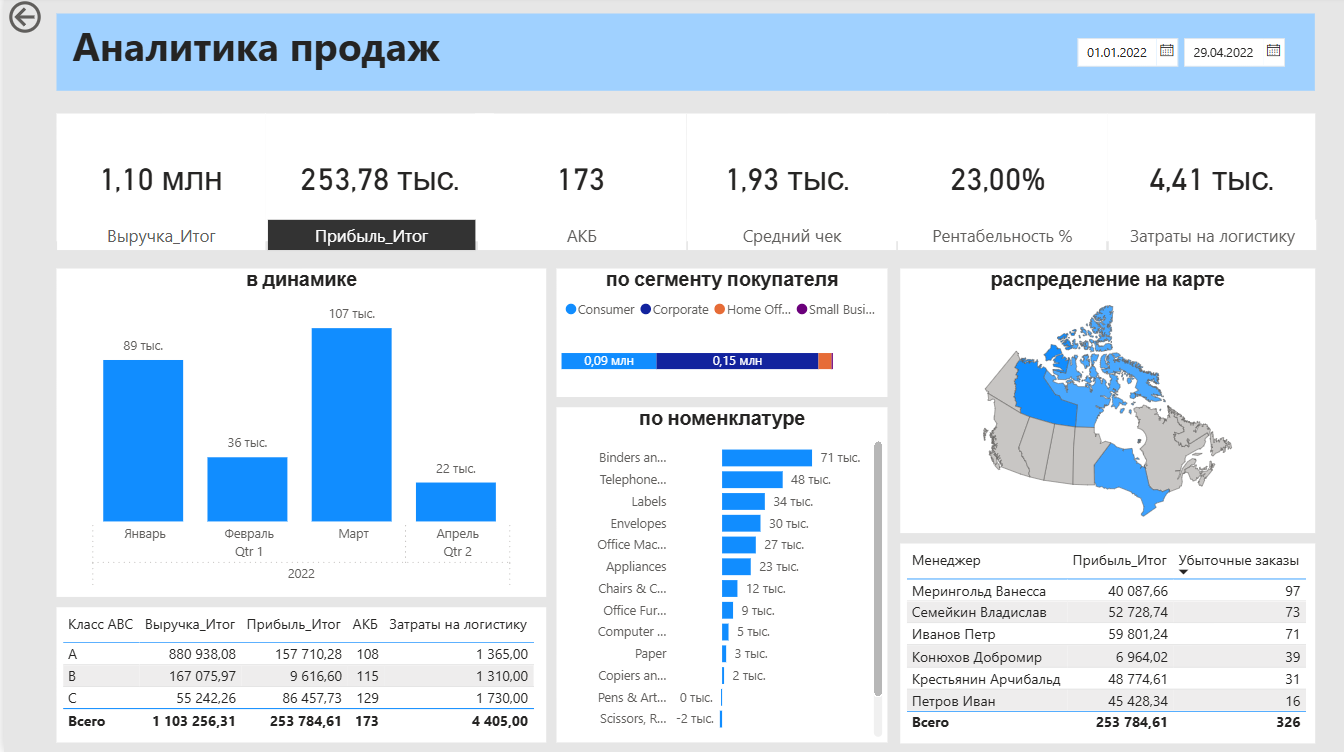

The page's visual inventory and layout, read from the dashboard file:
{"tool":"powerbi","page":{"name":"Страница 1","canvas":[1280,720],"ordinal":0},"visuals":[{"type":"card","fields":{"Values":["Продажи.Выручка_Итог"]},"box":[50,111.9,198.8,121.4],"z":0},{"type":"card","fields":{"Values":["Продажи.Прибыль_Итог"]},"box":[248.8,111.9,217.9,121.4],"z":1000},{"type":"card","fields":{"Values":["Продажи.АКБ"]},"box":[448.8,111.9,201.2,121.4],"z":2000},{"type":"card","fields":{"Values":["Продажи.Средний чек"]},"box":[650,111.9,191.7,121.4],"z":3000},{"type":"card","fields":{"Values":["Продажи.Рентабельность %"]},"box":[841.7,111.9,209.5,121.4],"z":4000},{"type":"card","fields":{"Values":["Продажи.Затраты на логистику"]},"box":[1051.2,111.9,197.6,121.4],"z":5000},{"type":"columnChart","title":"в динамике","fields":{"Y":["Продажи.Рентабельность %"],"Category":["Календарь.Date.Изменение.Иерархия дат.Год","Календарь.Date.Изменение.Иерархия дат.Квартал","Календарь.Date.Изменение.Иерархия дат.Месяц"]},"box":[50,259.5,466.7,313.1],"z":6000},{"type":"barChart","title":"по сегменту покупателя","fields":{"Y":["Продажи.Рентабельность %"],"Series":["СПР_покупатели.Сегмент покупателя"]},"box":[526.2,259.5,315.5,122.6],"z":7000},{"type":"clusteredBarChart","title":"по номенклатуре","fields":{"Y":["Продажи.Рентабельность %"],"Category":["СПР_продукты.Категория продукта","СПР_продукты.Подкатегория продукта","СПР_продукты.Продукт"]},"box":[526.2,391.7,315.5,319],"z":8000},{"type":"actionButton","box":[0,0,100,40],"z":9000},{"type":"shapeMap","title":"распределение на карте","fields":{"Value":["Продажи.Рентабельность %"],"Category":["Продажи.Регион"]},"box":[853.6,259.5,395.2,252.4],"z":10000},{"type":"textbox","box":[50,16.2,1198.8,73.8],"z":11000},{"type":"slicer","fields":{"Values":["Календарь.Date"]},"box":[1010,30,226.2,47.5],"z":12000},{"type":"tableEx","fields":{"Values":["СПР_Менеджеры.Менеджер","Продажи.Прибыль_Итог","Продажи.Убыточные заказы"]},"box":[853.8,521.2,395,190],"z":13000},{"type":"tableEx","fields":{"Values":["СПР_продукты.Класс ABC","Продажи.Выручка_Итог","Продажи.Прибыль_Итог","Продажи.АКБ","Продажи.Затраты на логистику"]},"box":[50,582.5,466.2,128.8],"z":14000},{"type":"slicer","fields":{"Values":["Выбор метки.Выбор метки"]},"box":[29.8,206,1239.3,36.9],"z":15000}]}

Visuals, with their boxes in screenshot pixels (x1, y1, x2, y2), scaled from the page's 1280x720 canvas onto the 1344x752 screenshot:
card - Продажи.Выручка_Итог: [x1=52, y1=117, x2=261, y2=244]
card - Продажи.Прибыль_Итог: [x1=261, y1=117, x2=490, y2=244]
card - Продажи.АКБ: [x1=471, y1=117, x2=682, y2=244]
card - Продажи.Средний чек: [x1=682, y1=117, x2=884, y2=244]
card - Продажи.Рентабельность %: [x1=884, y1=117, x2=1104, y2=244]
card - Продажи.Затраты на логистику: [x1=1104, y1=117, x2=1311, y2=244]
"в динамике" columnChart: [x1=52, y1=271, x2=543, y2=598]
"по сегменту покупателя" barChart: [x1=553, y1=271, x2=884, y2=399]
"по номенклатуре" clusteredBarChart: [x1=553, y1=409, x2=884, y2=742]
actionButton: [x1=0, y1=0, x2=105, y2=42]
"распределение на карте" shapeMap: [x1=896, y1=271, x2=1311, y2=535]
textbox: [x1=52, y1=17, x2=1311, y2=94]
slicer - Календарь.Date: [x1=1060, y1=31, x2=1298, y2=81]
tableEx - СПР_Менеджеры.Менеджер x Продажи.Прибыль_Итог: [x1=896, y1=544, x2=1311, y2=743]
tableEx - СПР_продукты.Класс ABC x Продажи.Выручка_Итог: [x1=52, y1=608, x2=542, y2=743]
slicer - Выбор метки.Выбор метки: [x1=31, y1=215, x2=1333, y2=254]
